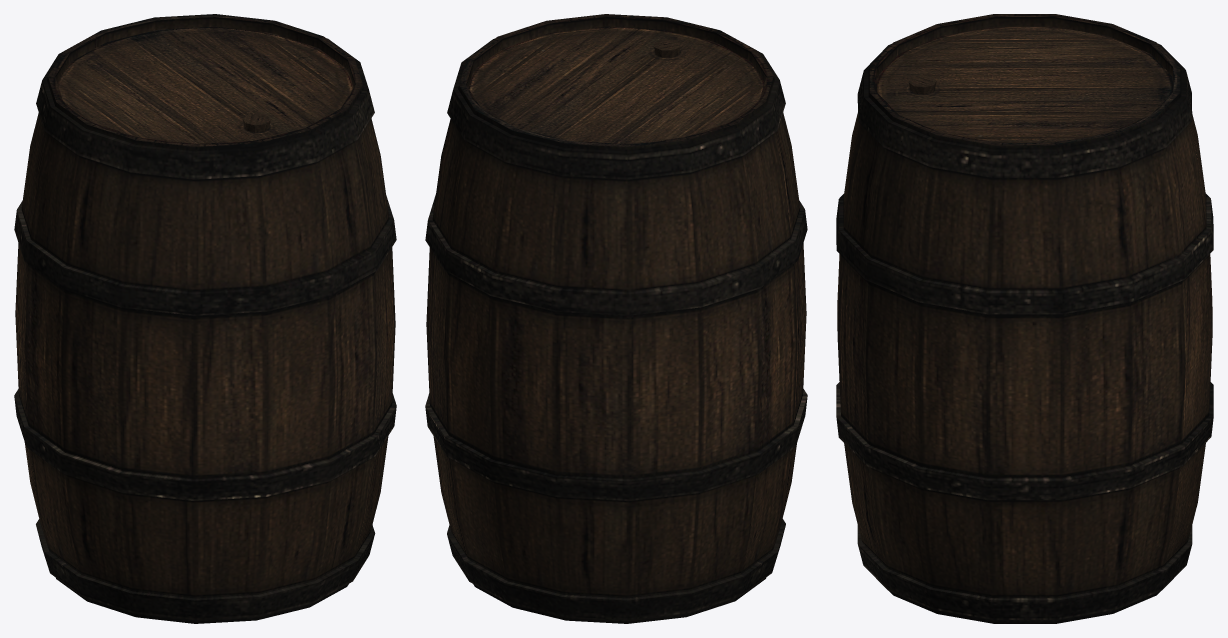
The model's file is wooden_barrel_1.obj.
3 renders of one model, left to right at view 1: azimuth 30°, elevation 25°; view 2: azimuth 150°, elevation 25°; view 3: azimuth 270°, elevation 25°, orthographic.
Parts seen in each view (by area): view 1: wooden_barrel_1; view 2: wooden_barrel_1; view 3: wooden_barrel_1.
Part boxes in pixels (x1,y1,x2,y2): wooden_barrel_1: [14, 14, 396, 623]; wooden_barrel_1: [425, 14, 807, 623]; wooden_barrel_1: [836, 14, 1213, 623].
Size of the model in its own units: 0.7863 by 1.1 by 0.7863.
